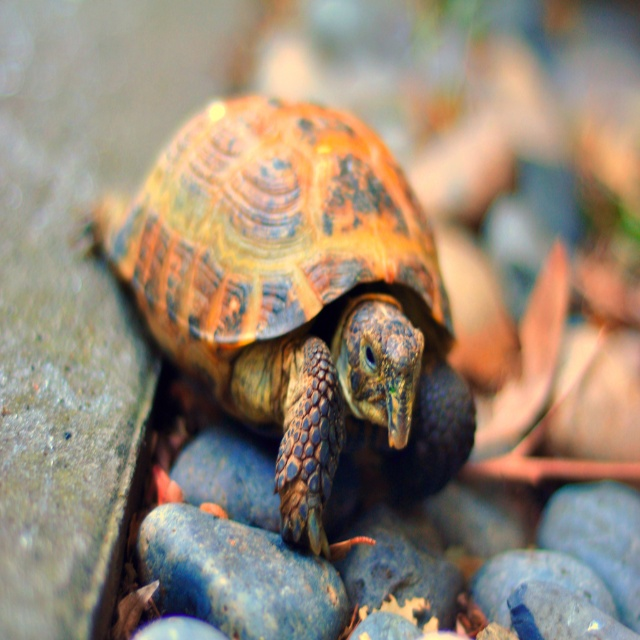Sea turtle: (71, 95, 475, 554)
